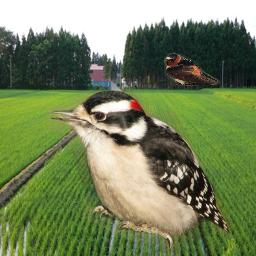Swallow: (164, 53, 220, 86)
Woodpecker: (46, 91, 233, 256)
